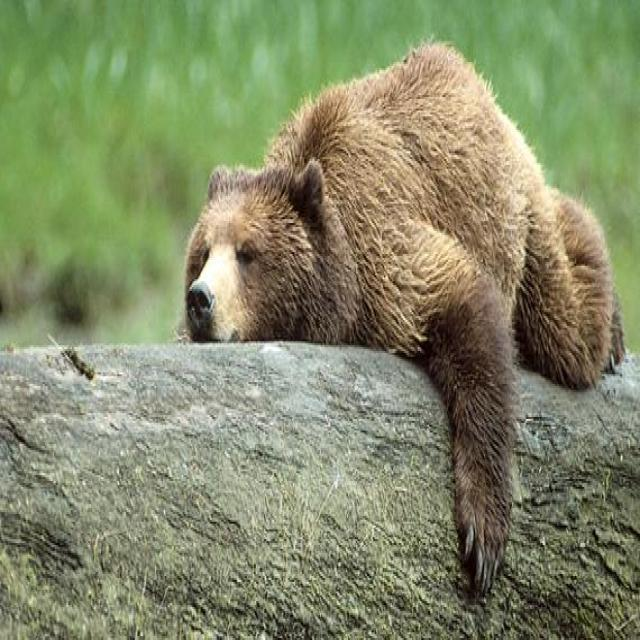Bear: (183, 41, 628, 607)
